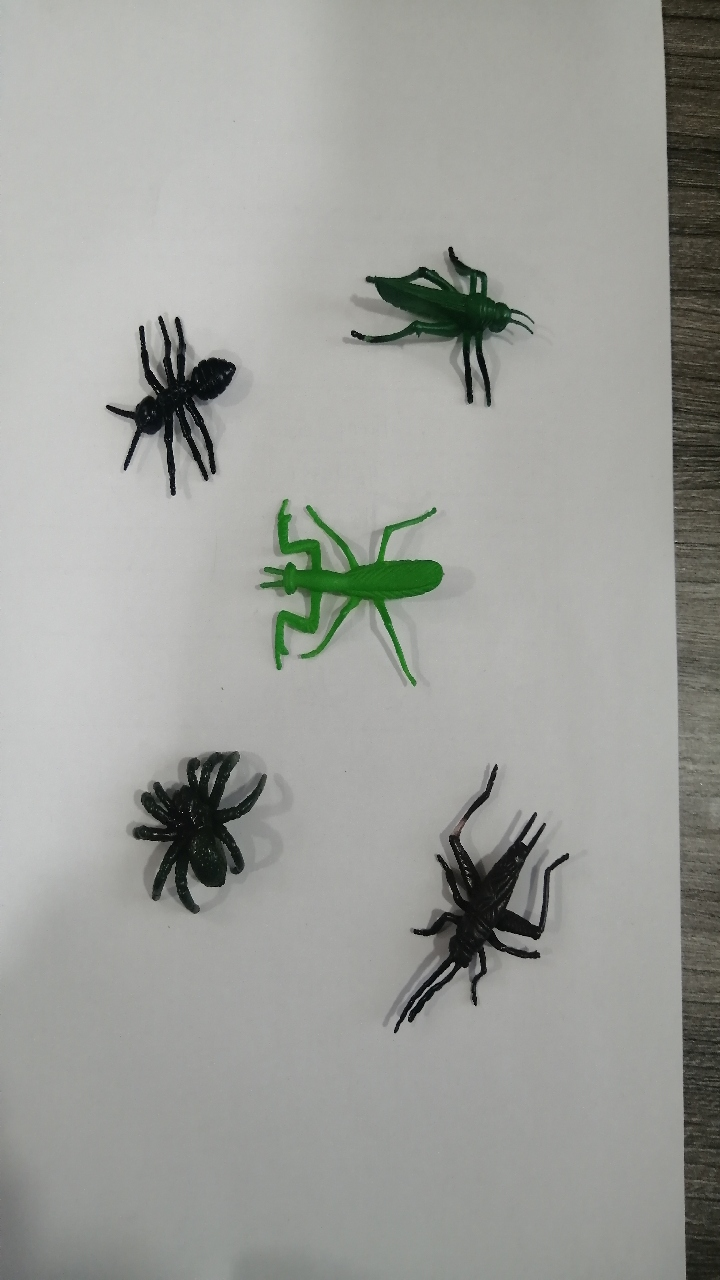intruso: (361, 740, 629, 1069), (232, 474, 497, 702), (323, 214, 564, 439), (103, 723, 298, 949), (71, 277, 254, 503)
